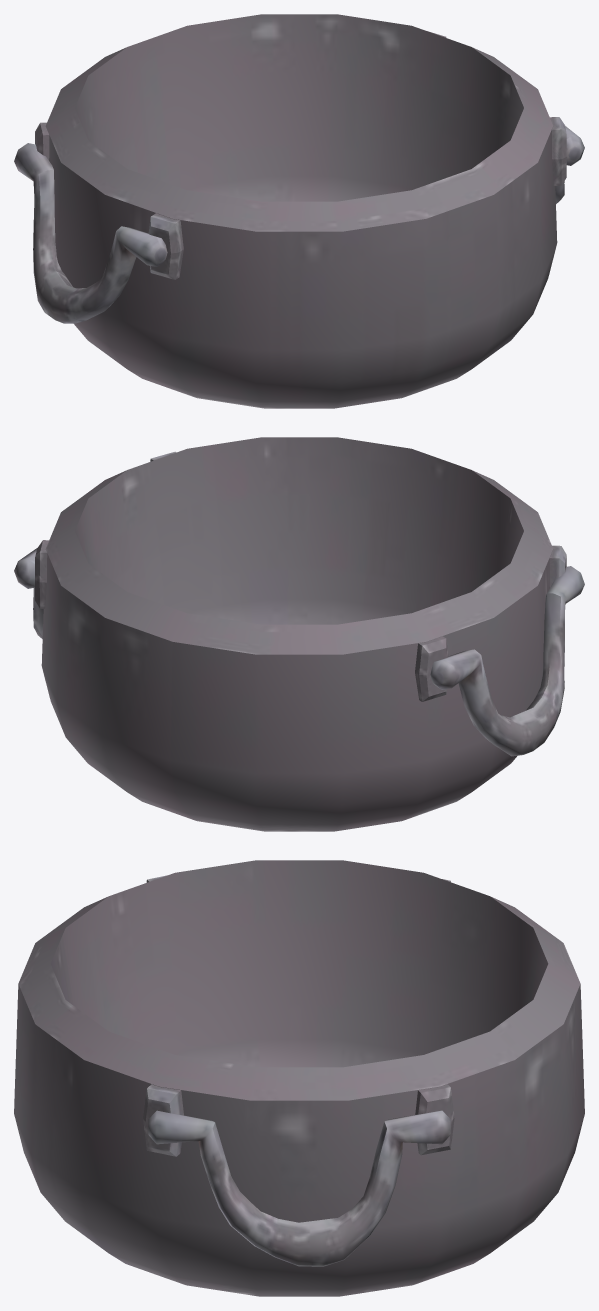
Rendered from Pot.glb.
3 views of the same model, one above another, from view 1: azimuth 30°, elevation 25°; view 2: azimuth 150°, elevation 25°; view 3: azimuth 270°, elevation 25° (orthographic). The views are drawn at different scales.
Parts seen in each view (by area): view 1: Pot; view 2: Pot; view 3: Pot.
Part boxes in pixels (x1,y1,x2,y2): Pot: (14,14,584,408); Pot: (14,437,584,831); Pot: (14,860,584,1296).
Size of the model in its own units: 0.5393 by 0.2238 by 0.486.
Materials: 1 (1 with a texture image).
